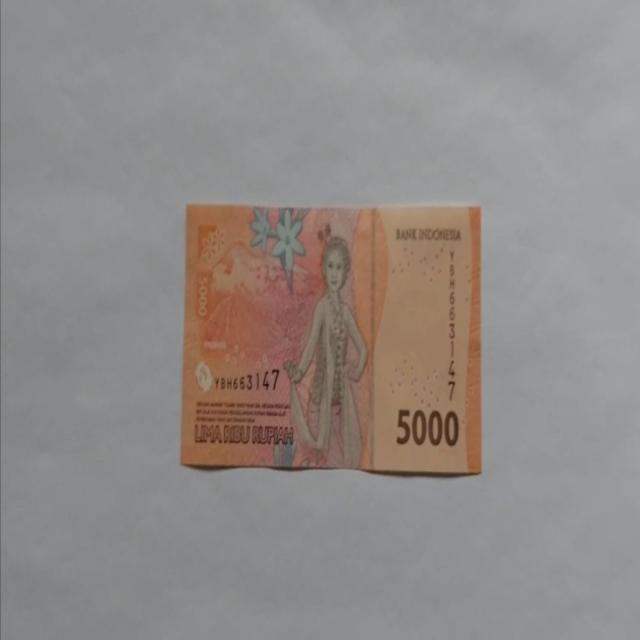lima ribu rupiah: (180, 200, 482, 476), (282, 233, 369, 468)
